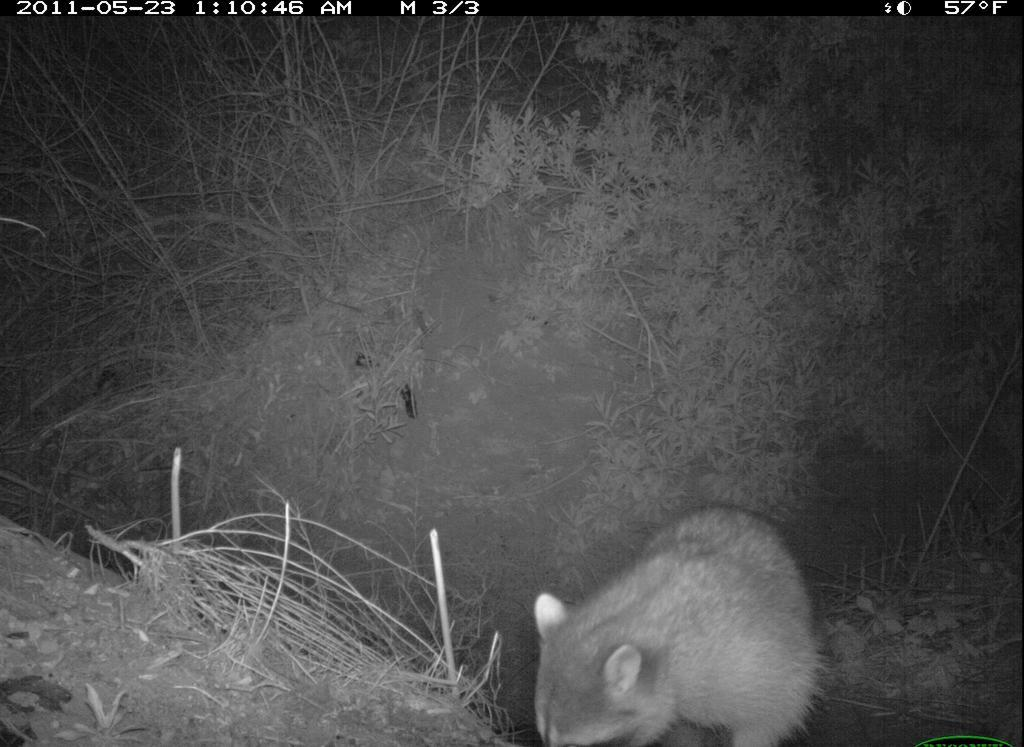raccoon: (519, 489, 836, 747)
